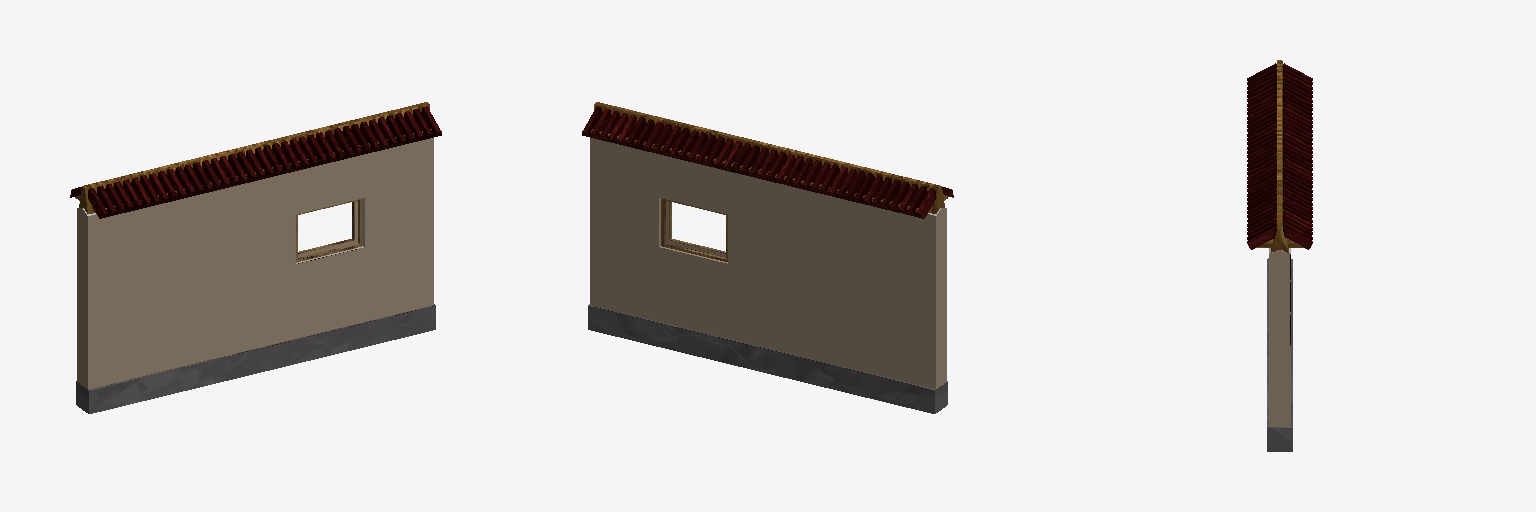
3 views of the same model, side by side, from view 1: azimuth 30°, elevation 25°; view 2: azimuth 150°, elevation 25°; view 3: azimuth 270°, elevation 25° (orthographic).
Parts seen in each view (by area): view 1: mur_chinois; view 2: mur_chinois; view 3: mur_chinois.
Boxes of the visible parts, box(x1,y1,x2,y2) form: mur_chinois: box(70, 102, 441, 413); mur_chinois: box(582, 102, 953, 413); mur_chinois: box(1247, 60, 1312, 451).
Bounding box in the file's own units: 3.27 × 2 × 0.5352.
Materials: 1 (1 with a texture image).